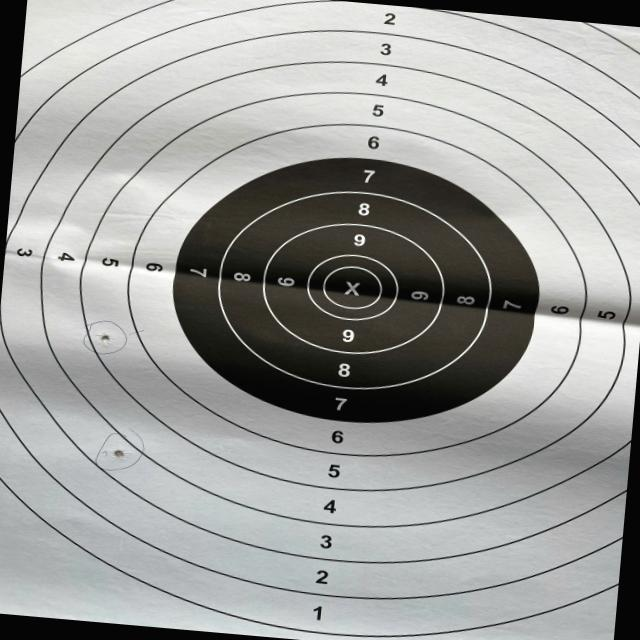bullet: (97, 333, 109, 345), (112, 447, 123, 459)
target: (0, 0, 640, 640)
